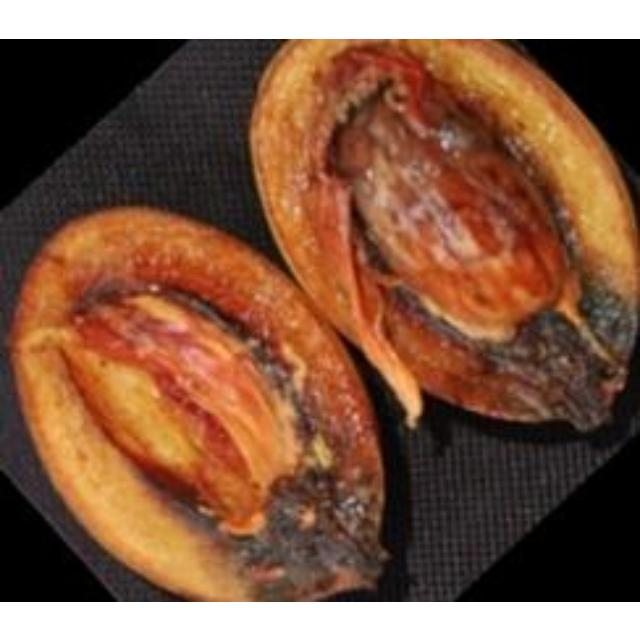damaged: (8, 206, 399, 599), (249, 38, 637, 434)
